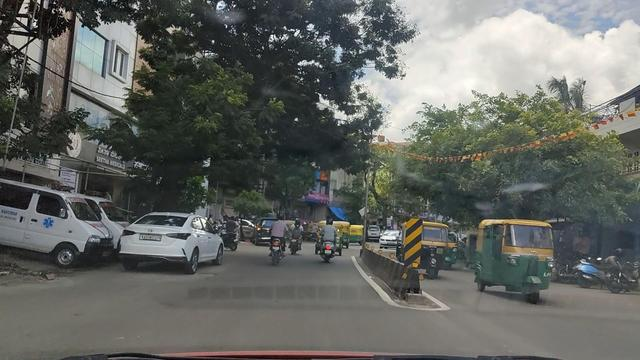LMV: (122, 212, 226, 283), (264, 213, 290, 265), (314, 223, 337, 260)
